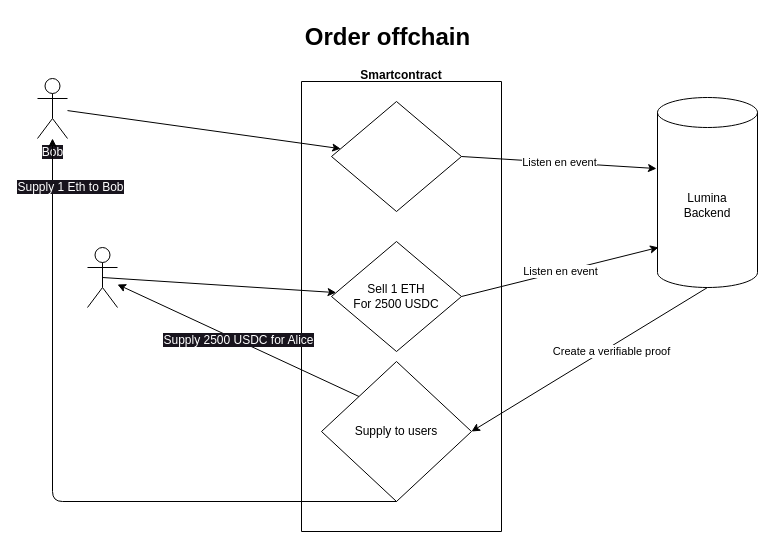
Image size: 775x549. Some labels were removed from this diagram. Each missing label, with the centre of its shape:
"Alice" goes at point 102,277.
"Want 2 Eth For 5000 USDC" goes at point 396,156.
